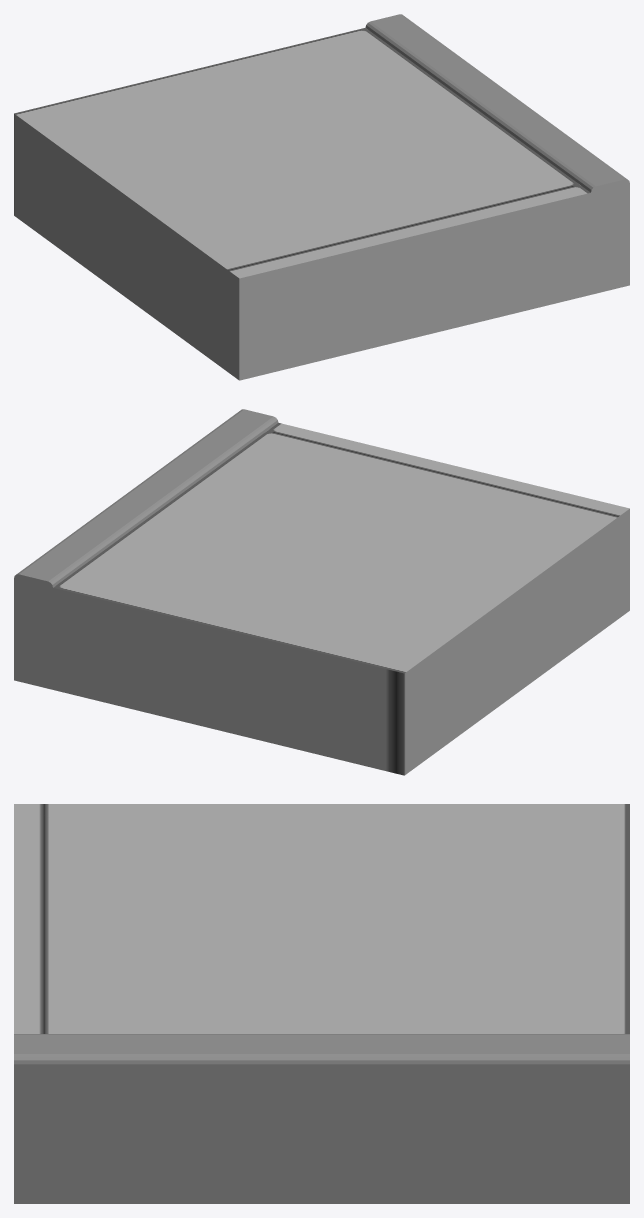
The model's file is calçada.fbx.
3 renders of one model, top to bottom at view 1: azimuth 30°, elevation 25°; view 2: azimuth 150°, elevation 25°; view 3: azimuth 270°, elevation 25°, orthographic. The views are drawn at different scales.
Visible parts, largest first — view 1: calçada entrada; view 2: calçada entrada; view 3: calçada entrada.
Boxes of the visible parts, <box> form: calçada entrada: <box>14,14,629,380</box>; calçada entrada: <box>14,409,629,775</box>; calçada entrada: <box>14,804,629,1203</box>.
Size of the model in its own units: 4 by 4 by 1.05.
1 material, 1 textured.
